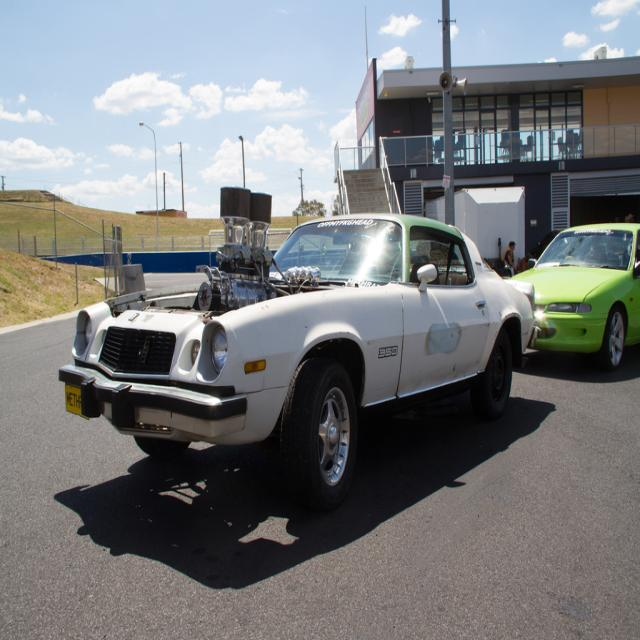car: (53, 207, 531, 503)
